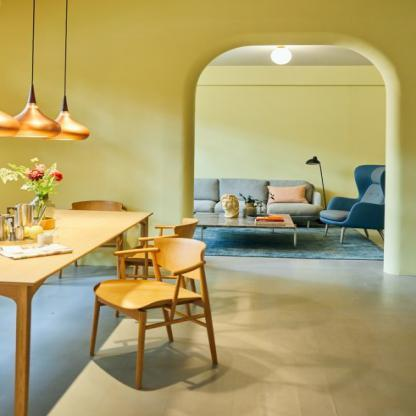chair: (85, 234, 222, 389), (322, 162, 394, 252), (64, 196, 132, 280), (109, 219, 201, 280)
light: (54, 0, 92, 149), (19, 0, 54, 154), (0, 0, 20, 139), (305, 150, 328, 212), (271, 42, 294, 70)
sofa: (180, 162, 333, 224)
table: (0, 210, 154, 409), (192, 210, 295, 244)
